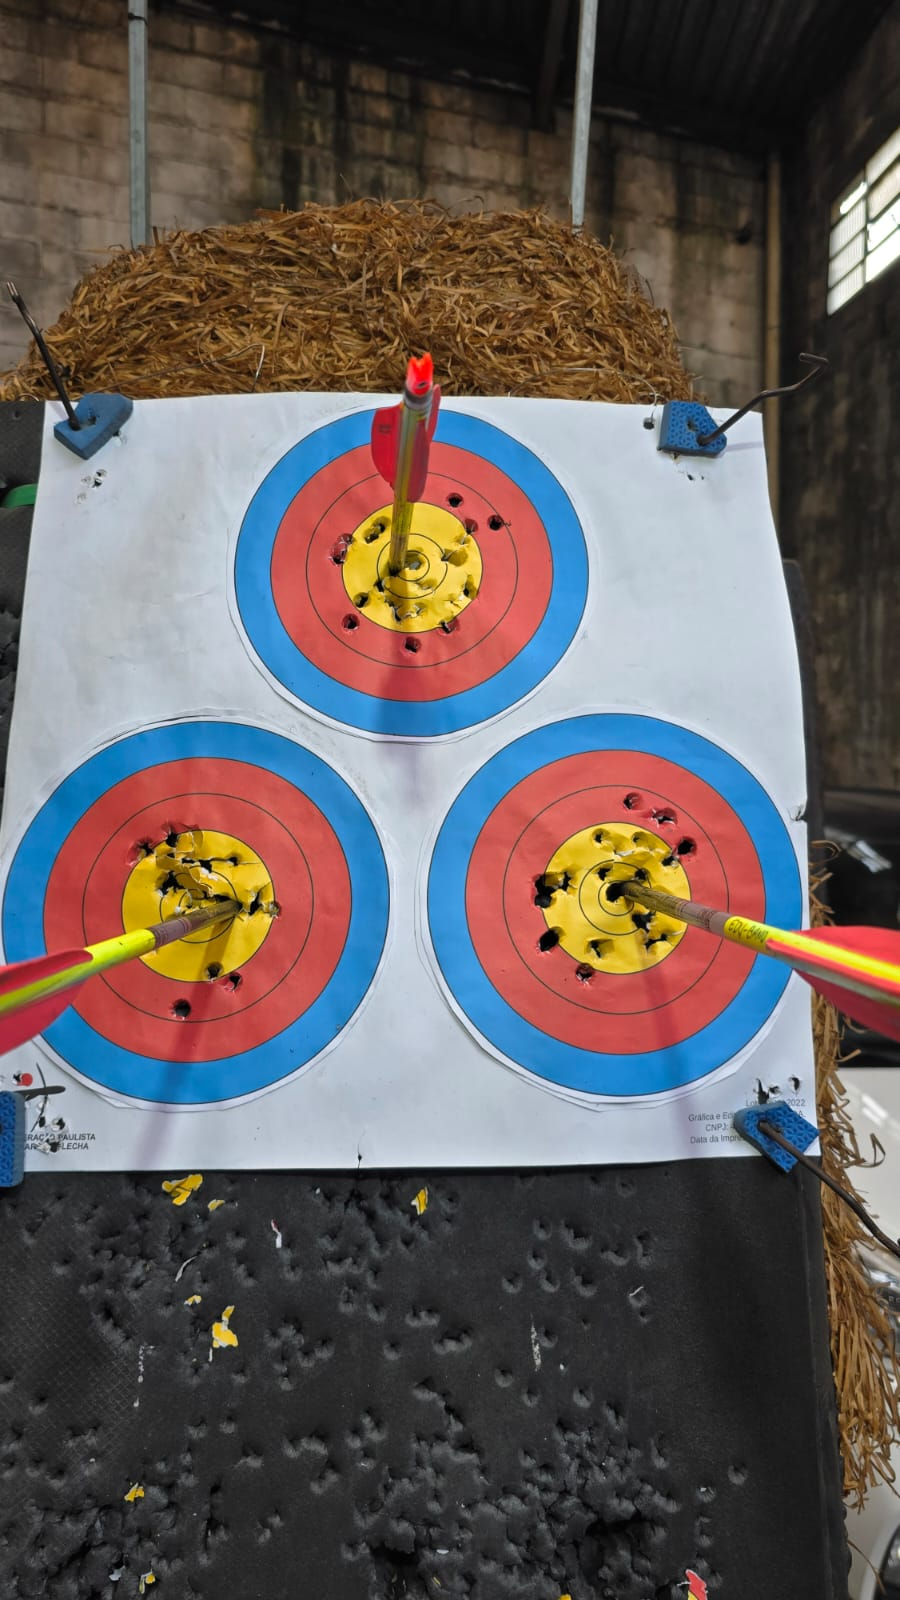10: (437, 720, 804, 1073), (248, 423, 573, 723)
9 linha 10: (34, 727, 391, 1076)
